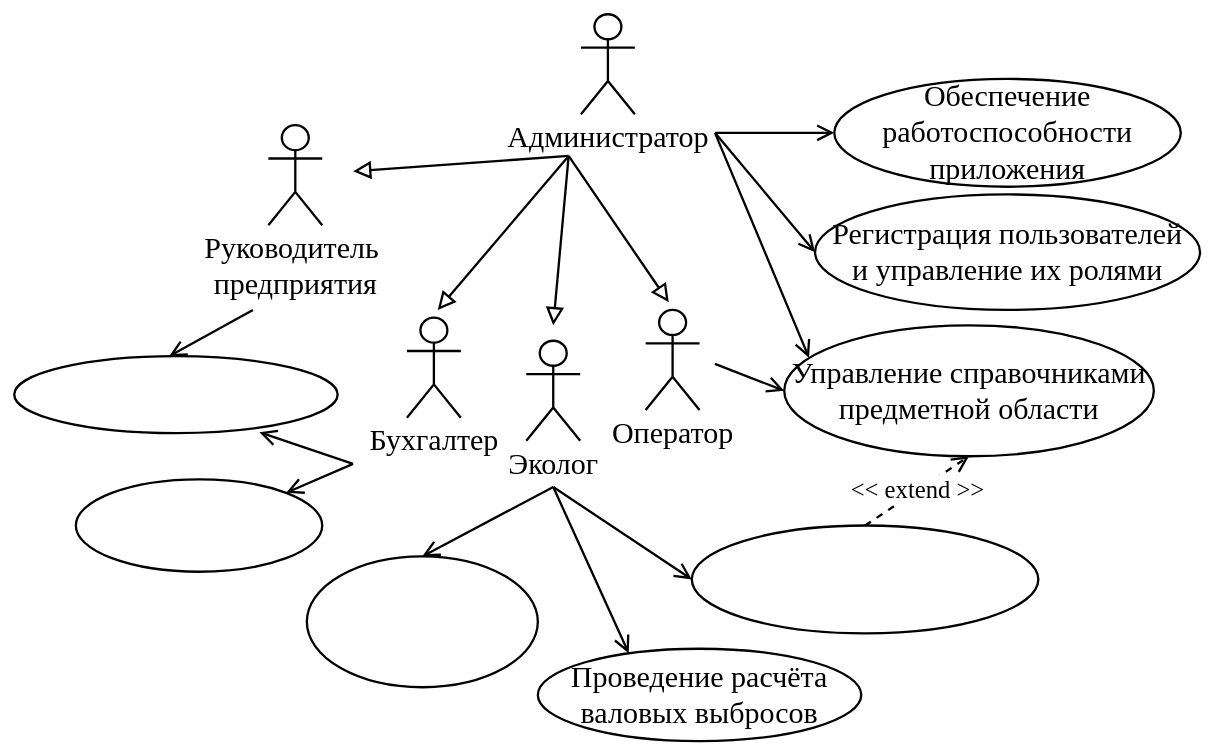
The diagram is 1214 pixels wide and 755 high, and some of its shapes have lost their labels. The centre of each missing label's shape, as x and y in pixels:
Просмотр статистики: (175,394)
Управление налогами: (198,525)
Управление параметрами расчётов: (422,621)
Учёт выбросов загрязняющих веществ: (864,579)
